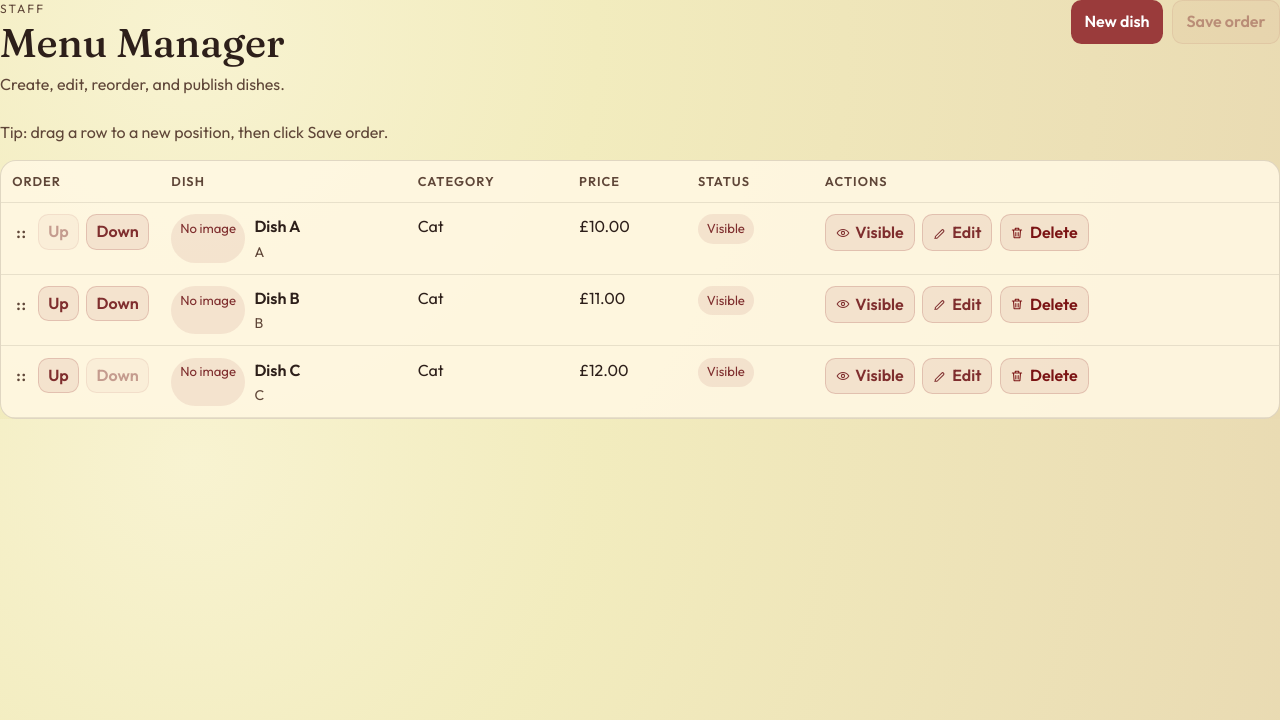
Scenario: AdminMenuPage reorder › restores last saved order if save fails
The image size is (1280, 720).
Expected: the text "Dish A" is shown, [254, 216, 300, 236]
Expected: the text "Dish B" is shown, [254, 288, 300, 308]
Step 1. Click the button with aria-label "Move up" → click(59, 304), box [38, 286, 79, 321]
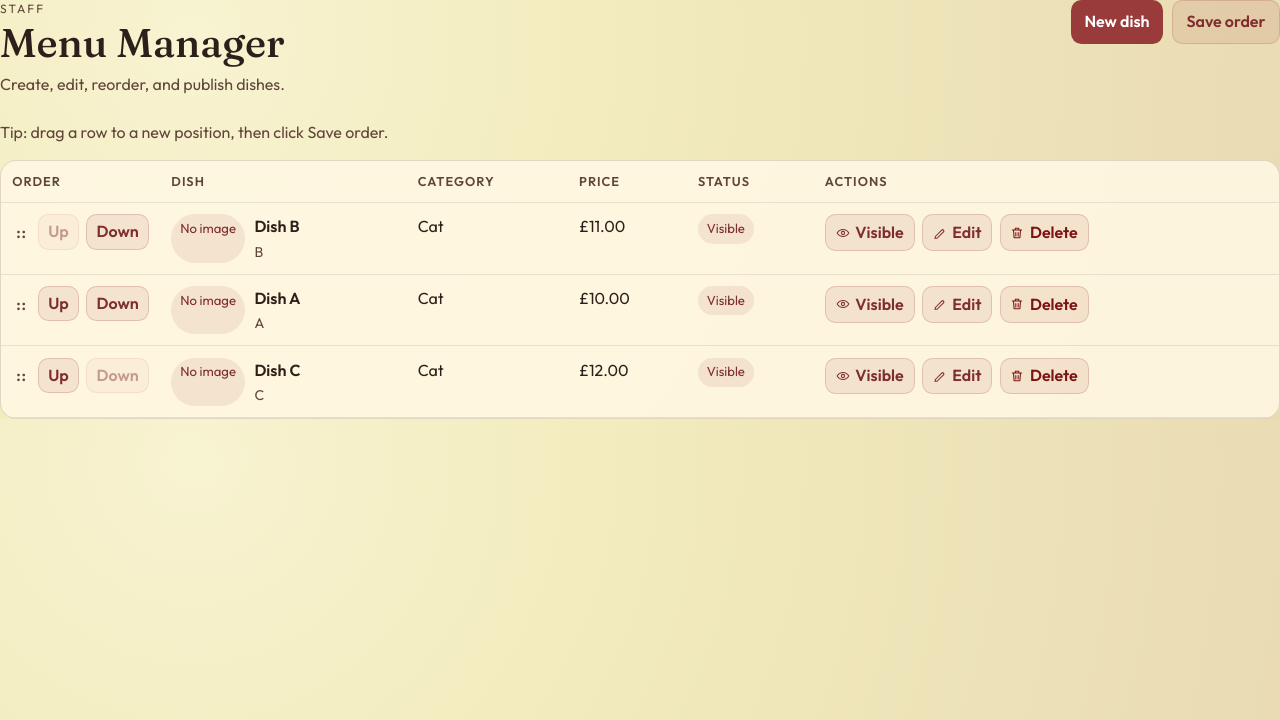
Step 2. Click the button "Save order" → click(1226, 22), box [1172, 0, 1279, 44]
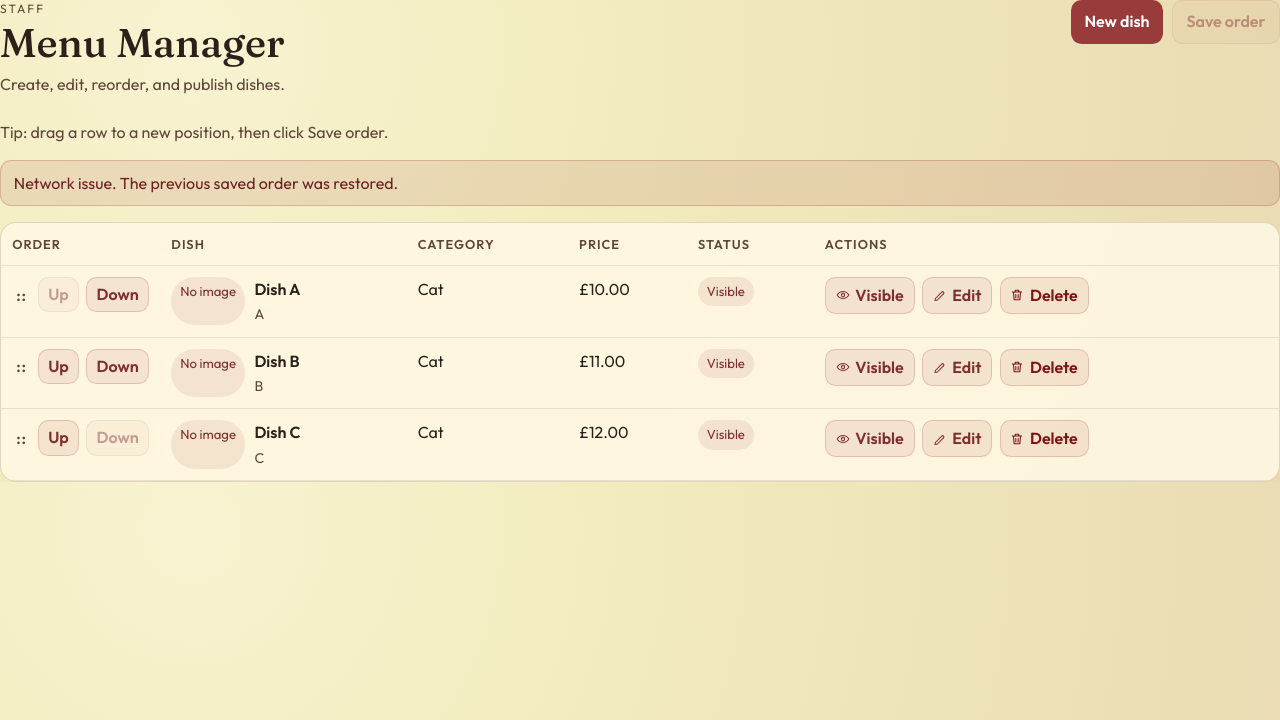
Expected: the text "Network issue. The previous saved order was restored." is shown, [0, 160, 1279, 206]
